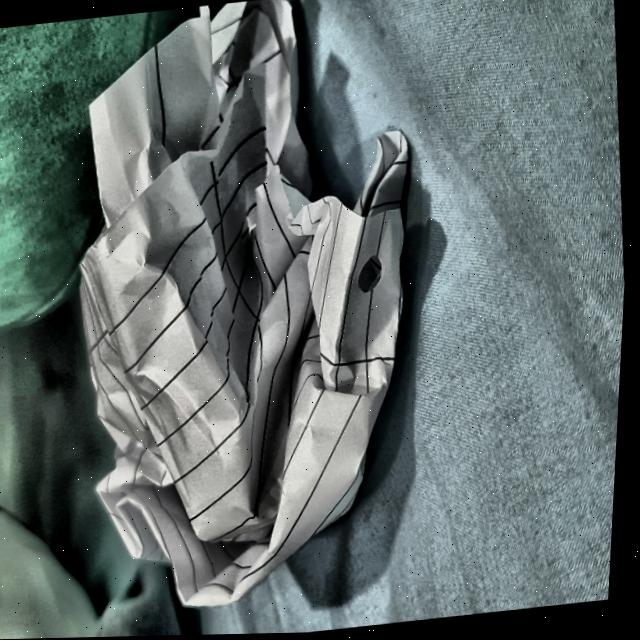paper: (24, 0, 462, 639)
